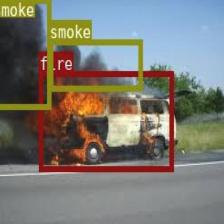fire: (38, 71, 173, 170)
smoke: (0, 0, 50, 108), (48, 39, 142, 90)
